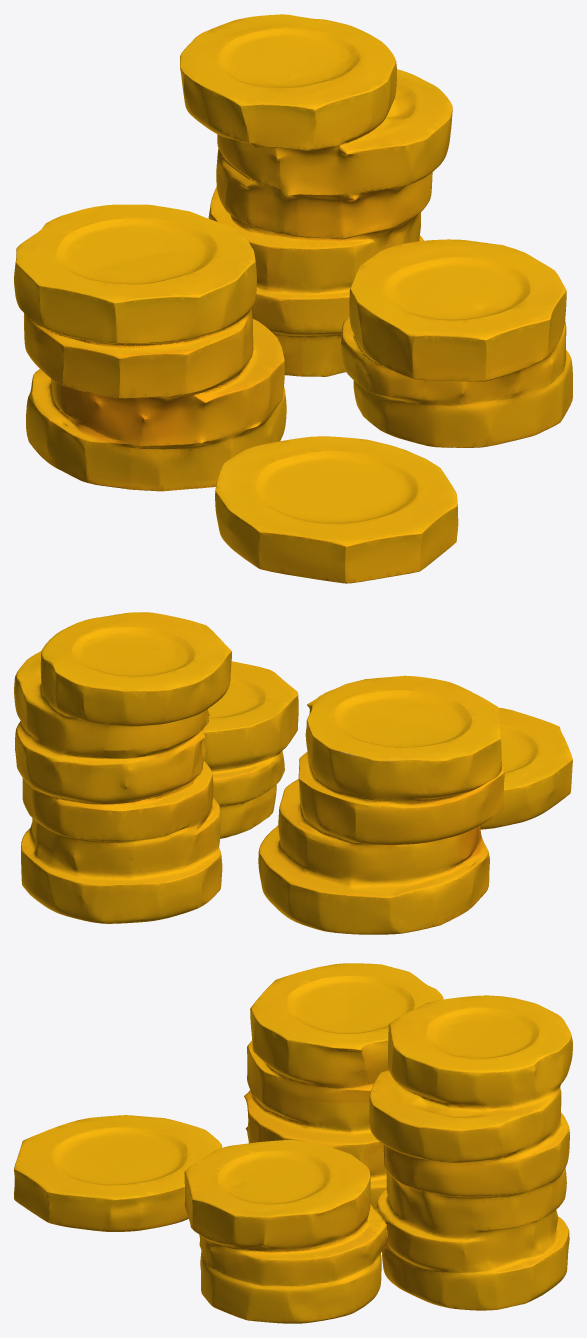
The model's file is base_basic_pbr.fbx.
The picture shows the model from 3 angles, top to bottom: view 1: azimuth 30°, elevation 25°; view 2: azimuth 150°, elevation 25°; view 3: azimuth 270°, elevation 25°; orthographic projection. The views are drawn at different scales.
Parts seen in each view (by area): view 1: model; view 2: model; view 3: model.
Boxes of the visible parts, x1,y1,x2,y2 form: model: [14, 14, 572, 583]; model: [14, 612, 572, 934]; model: [14, 963, 572, 1323].
Size of the model in its own units: 162 by 87.39 by 191.
1 material, 1 textured.
